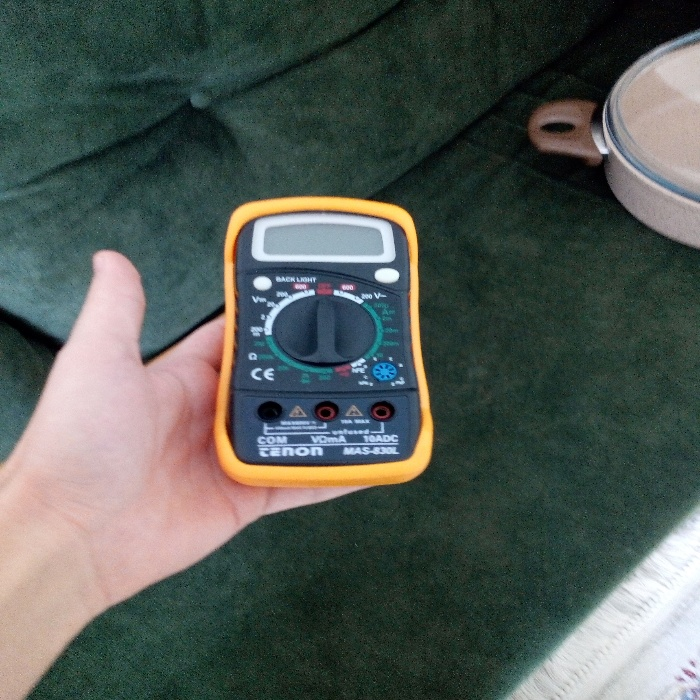multimetre: (179, 145, 462, 528)
